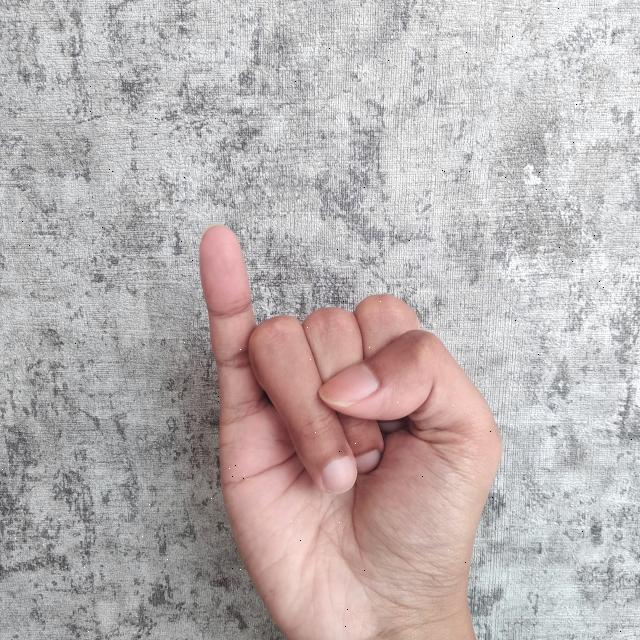I: (192, 217, 511, 640)
